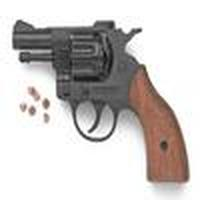gun: (9, 17, 200, 196)
